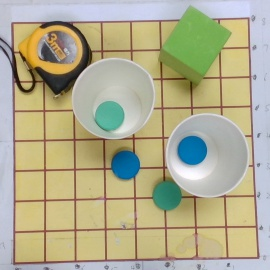blue: (111, 149, 140, 179)
cup_blue: (166, 112, 247, 198)
cup_green: (73, 57, 157, 141)
green: (152, 180, 182, 210)
